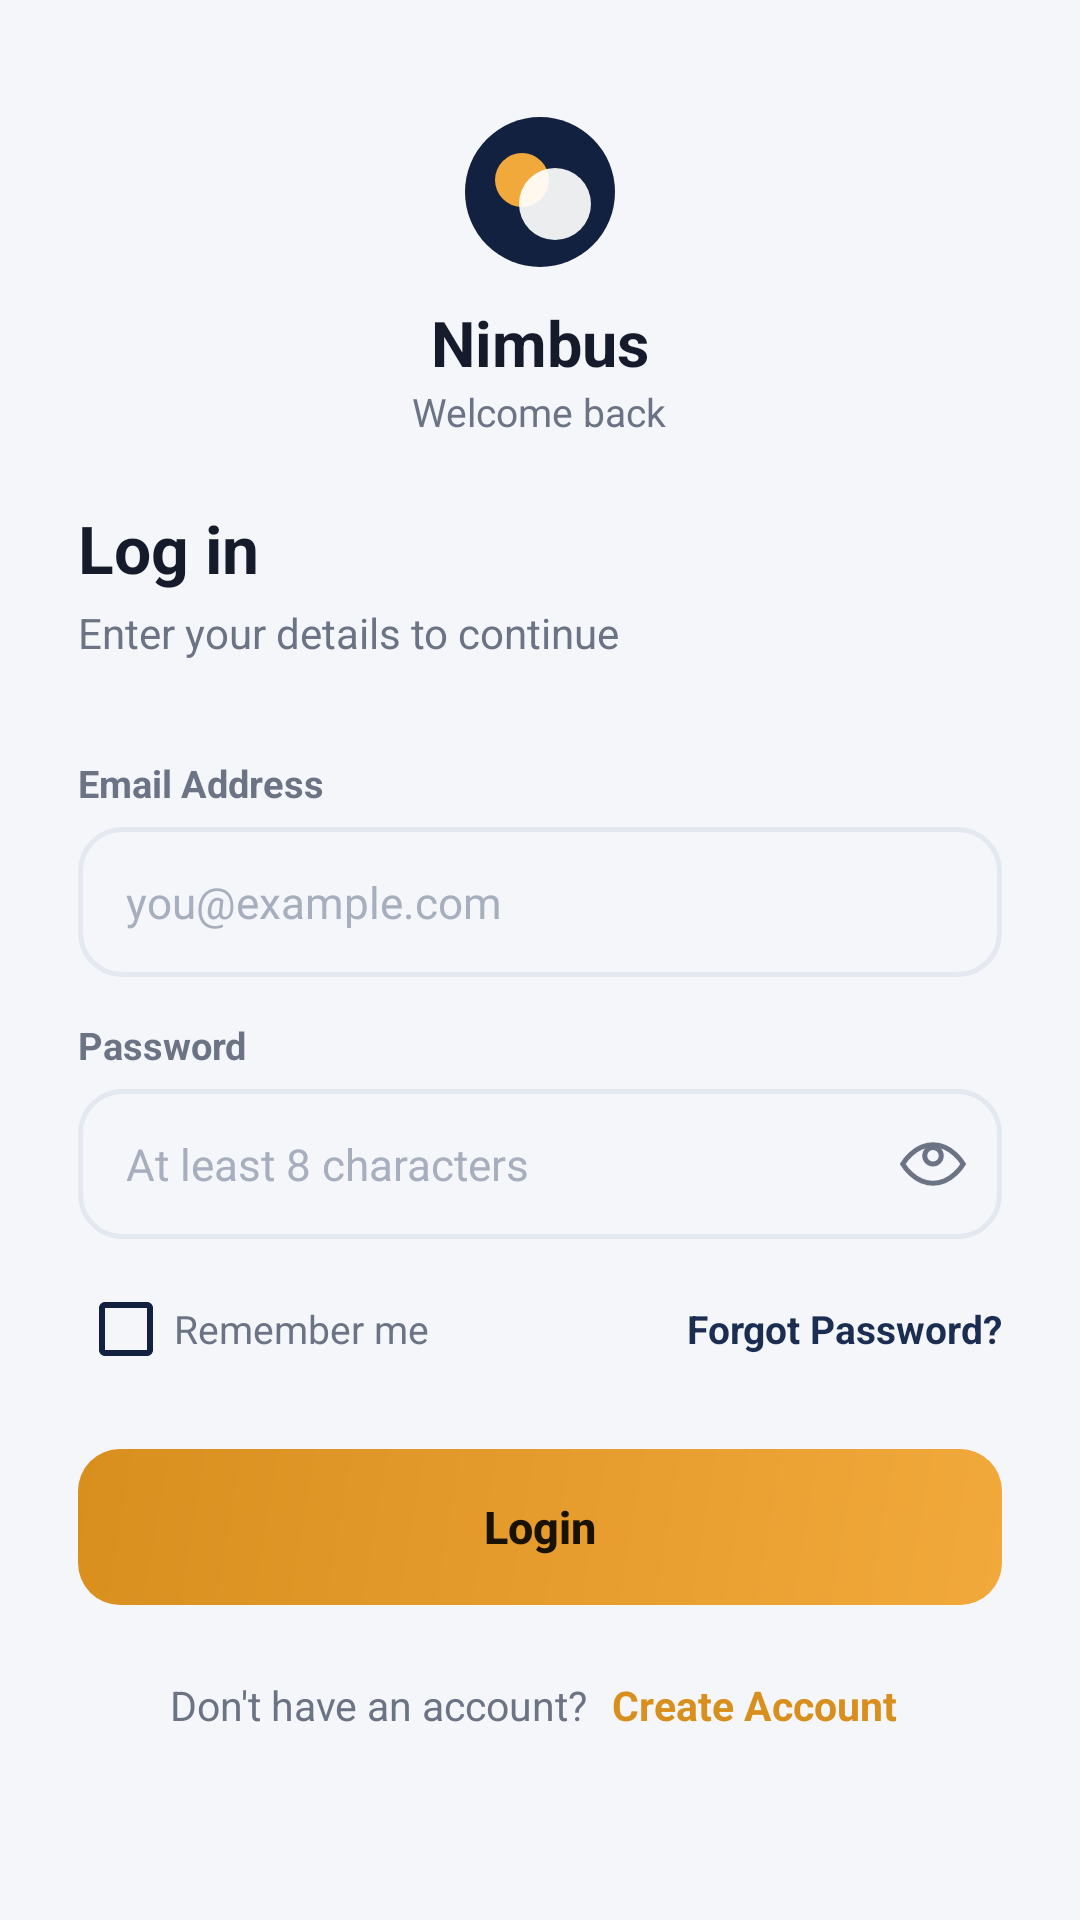

Where to tap for icons on this 1080px×1920px app screen, as (x,y):
Show or hide password: (933,1164)
